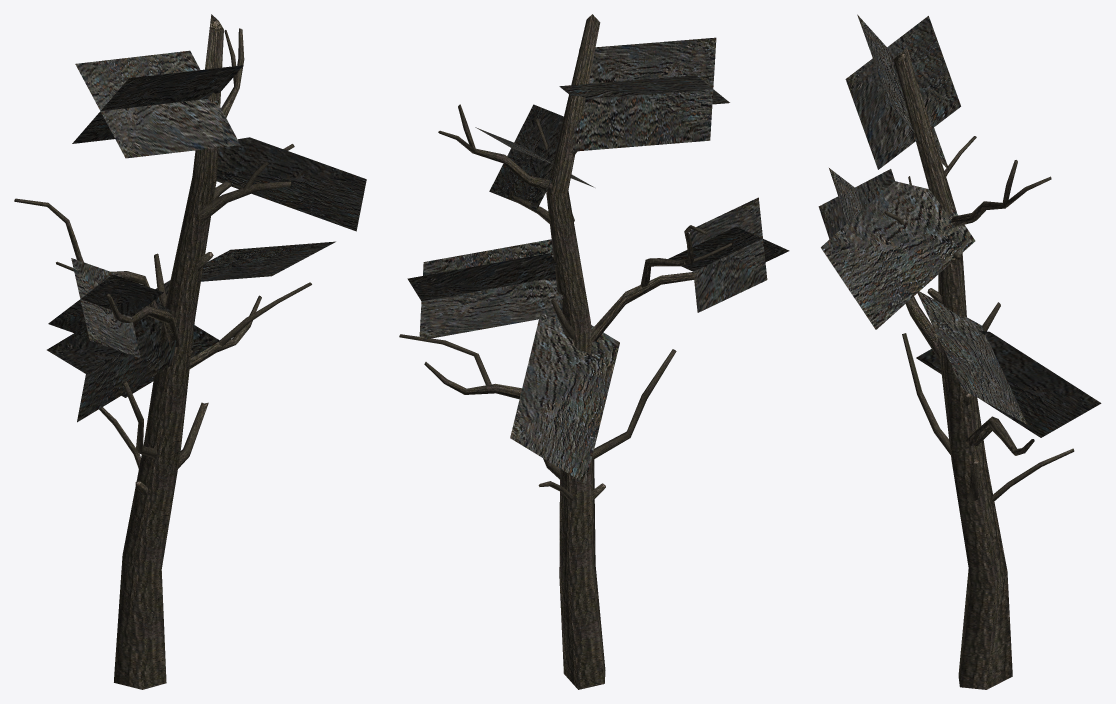
Rendered from tree_goth_dead_med.fbx.
3 renders of one model, left to right at view 1: azimuth 30°, elevation 25°; view 2: azimuth 150°, elevation 25°; view 3: azimuth 270°, elevation 25°, orthographic. The views are drawn at different scales.
Parts seen in each view (by area): view 1: mesh_12, mesh_19, mesh_20, mesh_22, mesh_23, mesh_21, mesh_6, mesh_2, mesh_7, mesh_8, mesh_17, mesh_11 (+2 smaller); view 2: mesh_12, mesh_19, mesh_22, mesh_21, mesh_23, mesh_20, mesh_6, mesh_17, mesh_4, mesh_8, mesh_7; view 3: mesh_12, mesh_20, mesh_19, mesh_22, mesh_21, mesh_23, mesh_17, mesh_4, mesh_6, mesh_8, mesh_18.
Boxes of the visible parts, left/top/right/bottom form: mesh_12: left=114, top=14, right=223, bottom=689; mesh_19: left=72, top=50, right=243, bottom=158; mesh_20: left=216, top=137, right=366, bottom=231; mesh_22: left=47, top=280, right=219, bottom=422; mesh_23: left=48, top=258, right=163, bottom=358; mesh_21: left=166, top=241, right=335, bottom=284; mesh_6: left=106, top=293, right=180, bottom=346; mesh_2: left=197, top=181, right=291, bottom=221; mesh_7: left=14, top=198, right=158, bottom=318; mesh_8: left=189, top=295, right=261, bottom=368; mesh_17: left=122, top=381, right=157, bottom=458; mesh_11: left=218, top=282, right=311, bottom=346; mesh_12: left=546, top=14, right=605, bottom=689; mesh_19: left=559, top=37, right=729, bottom=151; mesh_22: left=510, top=308, right=619, bottom=483; mesh_21: left=407, top=239, right=562, bottom=340; mesh_23: left=668, top=197, right=789, bottom=312; mesh_20: left=475, top=104, right=594, bottom=210; mesh_6: left=591, top=272, right=696, bottom=342; mesh_17: left=592, top=349, right=676, bottom=459; mesh_4: left=458, top=104, right=551, bottom=190; mesh_8: left=424, top=362, right=521, bottom=399; mesh_7: left=640, top=225, right=707, bottom=287; mesh_12: left=893, top=47, right=1012, bottom=689; mesh_20: left=821, top=181, right=975, bottom=329; mesh_19: left=845, top=14, right=960, bottom=170; mesh_22: left=916, top=330, right=1101, bottom=437; mesh_21: left=917, top=291, right=1027, bottom=424; mesh_23: left=818, top=168, right=894, bottom=239; mesh_17: left=902, top=333, right=950, bottom=454; mesh_4: left=951, top=160, right=1017, bottom=226; mesh_6: left=905, top=296, right=940, bottom=361; mesh_8: left=966, top=416, right=1034, bottom=455; mesh_18: left=992, top=448, right=1074, bottom=501.
Bounding box in the file's own units: 637 × 1256 × 497.
Materials: 2 (2 with a texture image).
